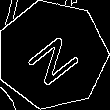N_NE: (19, 23, 85, 86)
